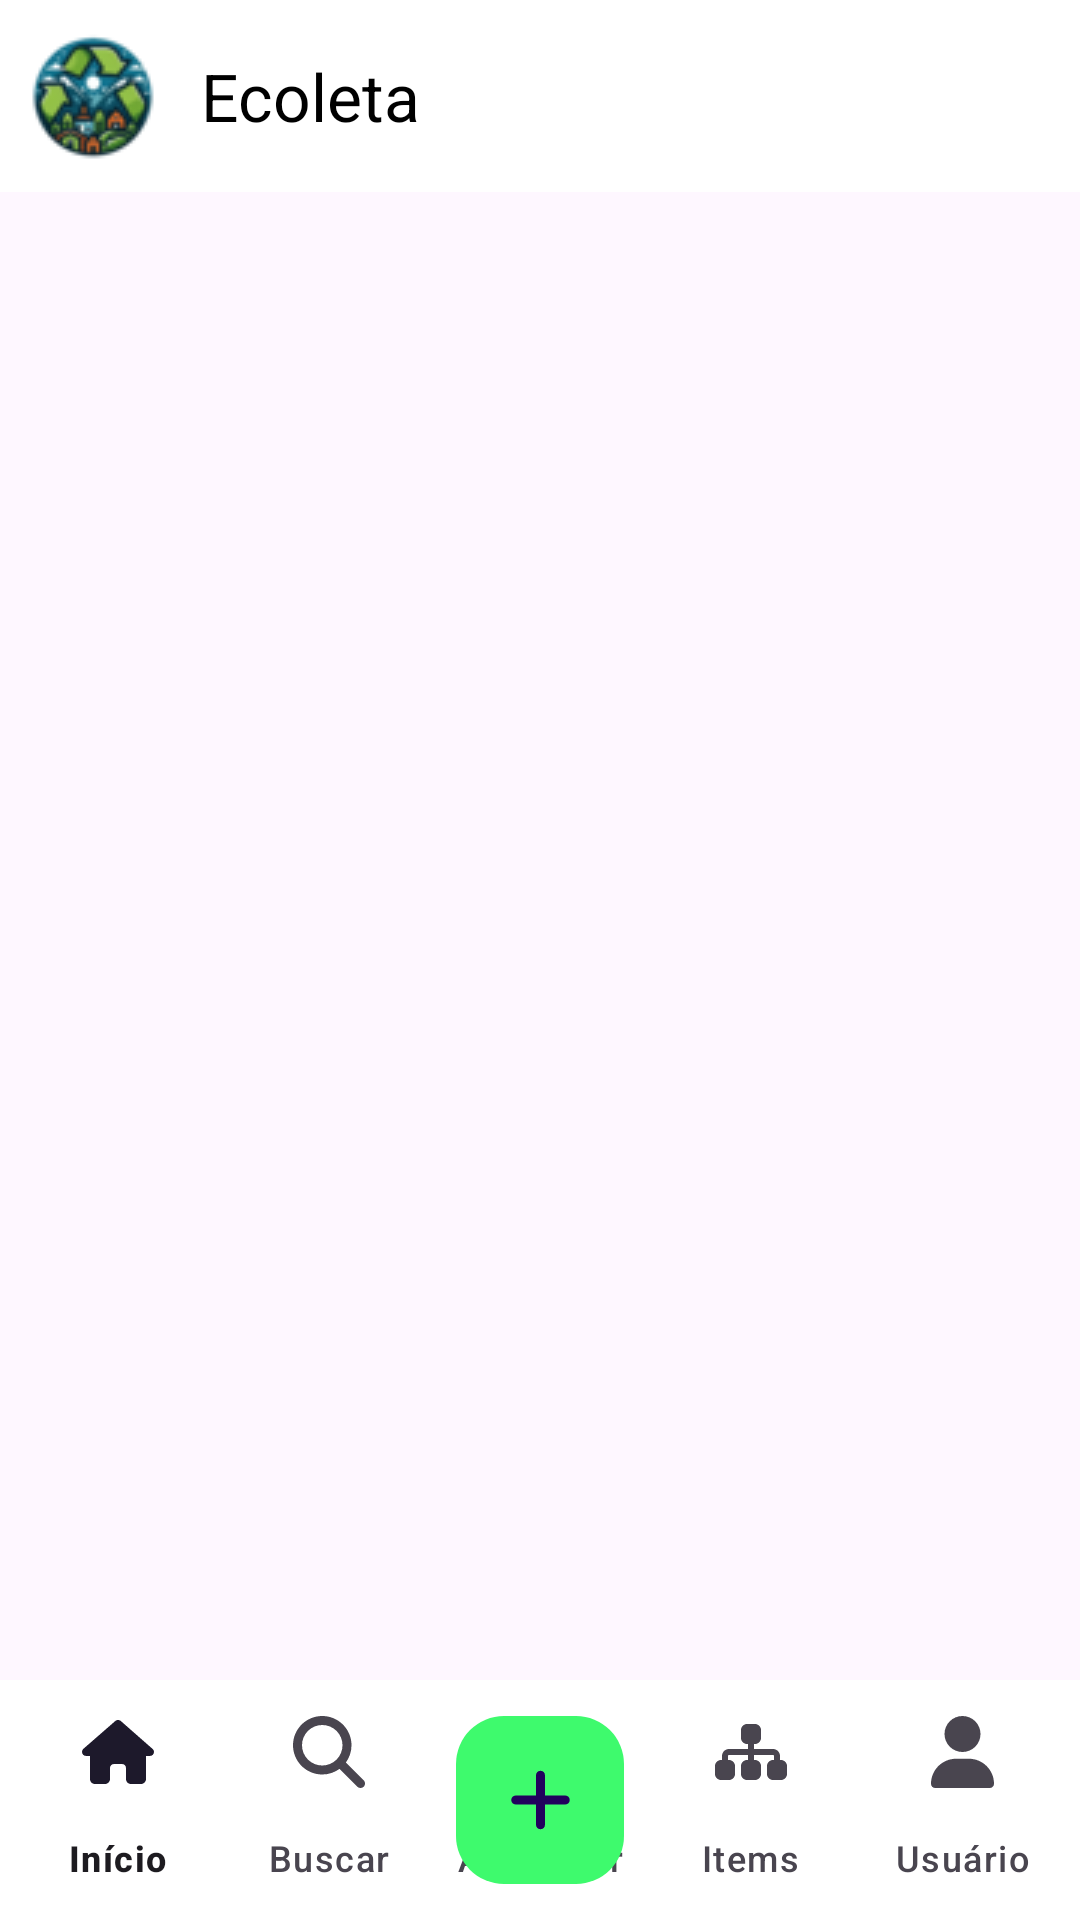

Named icons in this screenshot (1080w x 1920h) and their centers, point (x, y):
Add: point (540, 1818)
